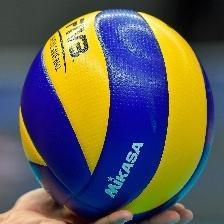Sports-Ball: (18, 7, 217, 222)
